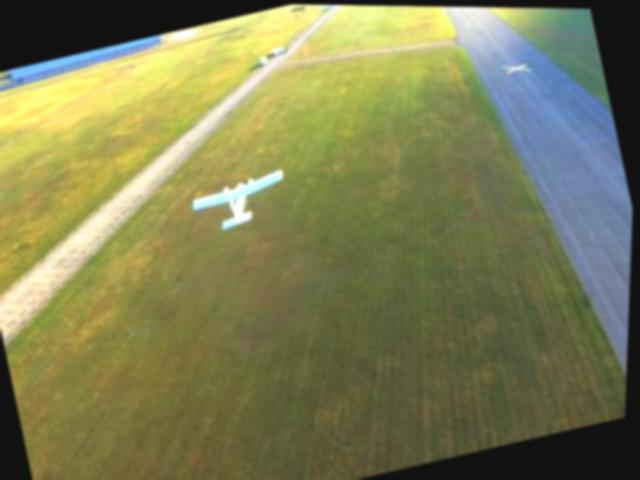uav: (188, 163, 298, 237)
